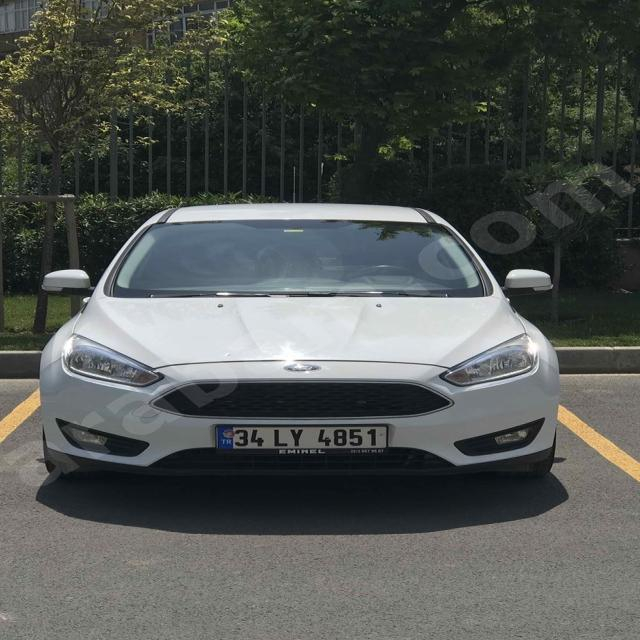license_plate: (216, 425, 387, 449)
